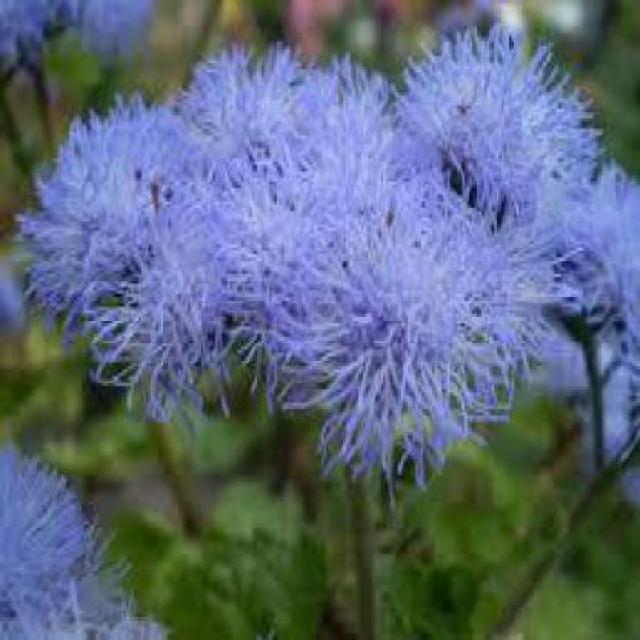flower: (23, 43, 594, 495)
